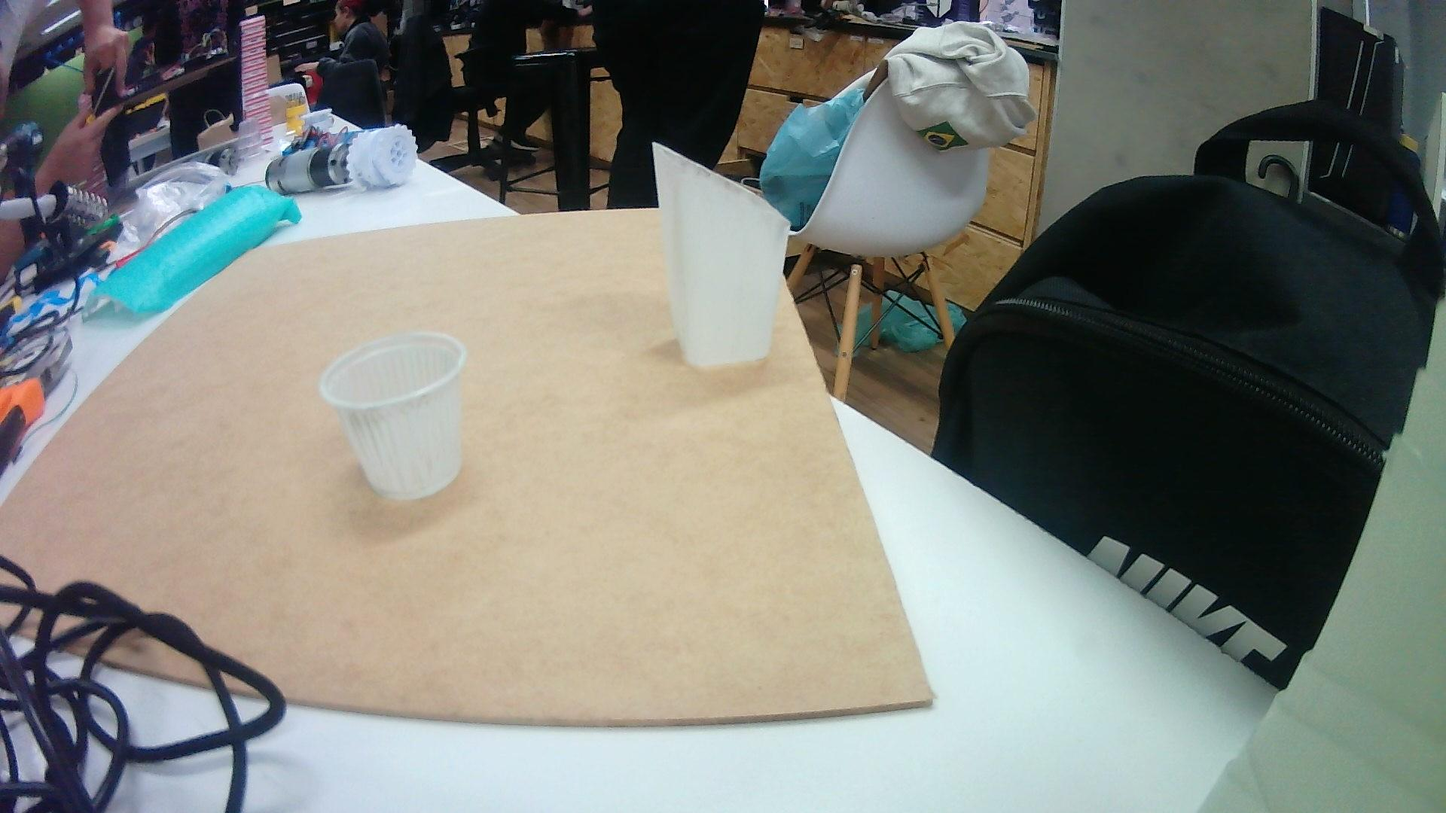erva_daninha: (651, 142, 792, 370)
planta: (317, 330, 468, 502)
